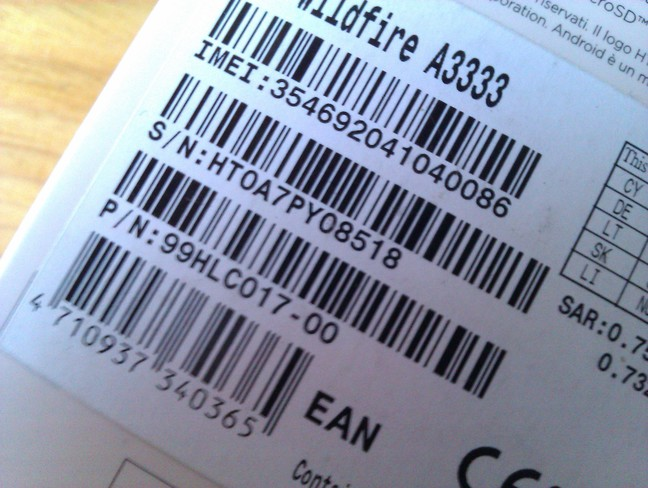detection: (17, 208, 332, 463)
